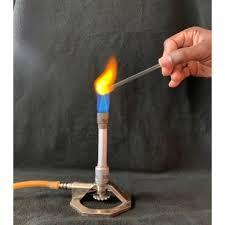controlled_fire: (76, 51, 142, 138)
